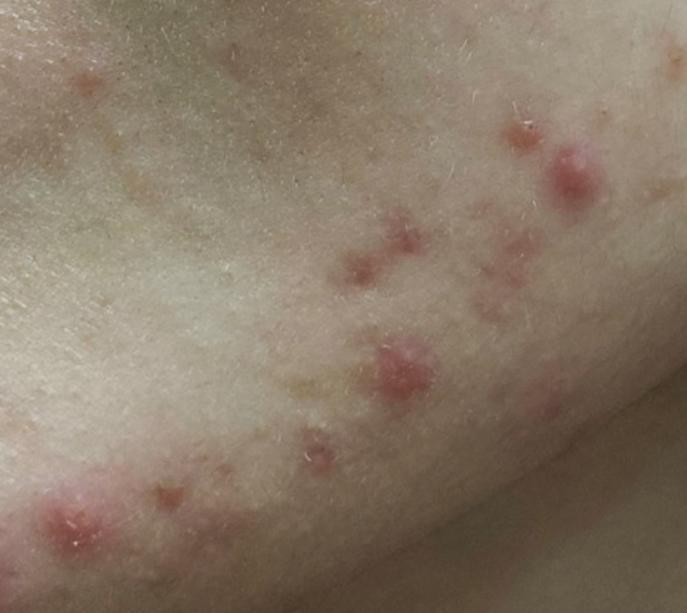acne_scars: (336, 205, 453, 306)
papular: (34, 490, 110, 566), (370, 343, 444, 417), (563, 141, 614, 218), (498, 104, 556, 156)
whitehead: (207, 258, 262, 305), (302, 410, 335, 447)
